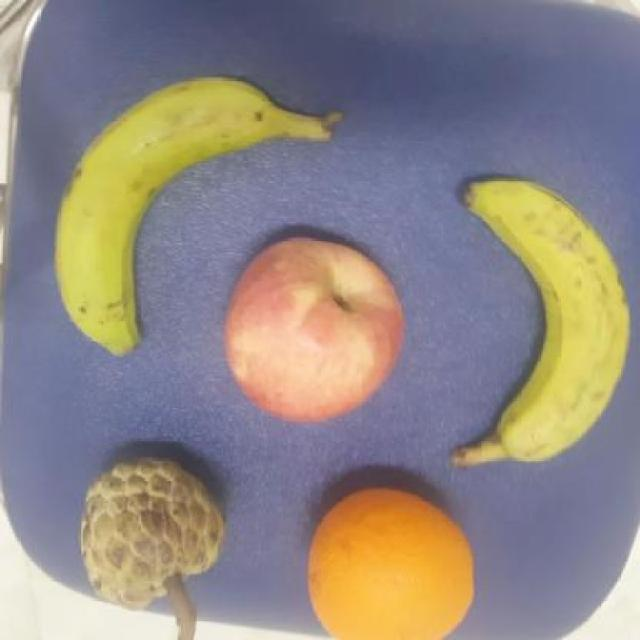apple: (220, 234, 405, 421)
banana: (50, 72, 347, 360), (445, 172, 637, 472)
oren: (304, 476, 478, 639)
sugar apple: (80, 445, 222, 613)
